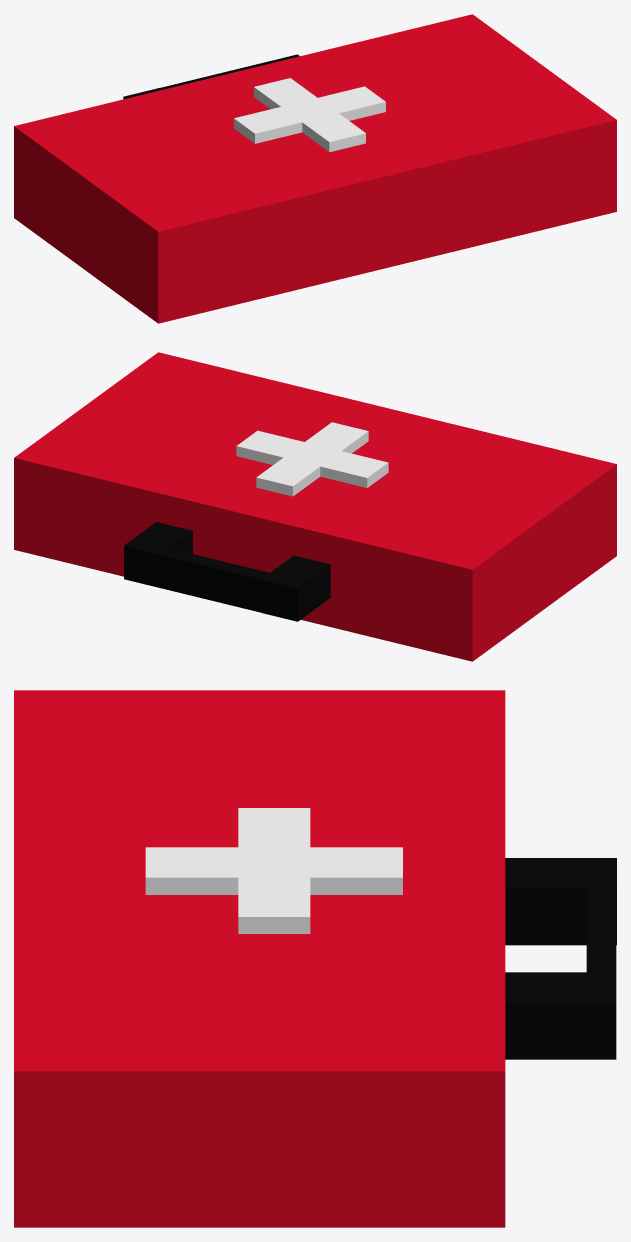
The model's file is Medkit.fbx.
3 views of the same model, one above another, from view 1: azimuth 30°, elevation 25°; view 2: azimuth 150°, elevation 25°; view 3: azimuth 270°, elevation 25° (orthographic). The views are drawn at different scales.
Visible parts, largest first — view 1: Cube, Cube.006, Cube.004, Cube.002; view 2: Cube, Cube.002, Cube.006, Cube.003, Cube.004, Cube.001; view 3: Cube, Cube.004, Cube.001, Cube.003, Cube.006, Cube.002.
Part boxes in pixels (x1,y1,x2,y2): Cube: [14, 14, 616, 323]; Cube.006: [234, 86, 385, 143]; Cube.004: [254, 78, 365, 152]; Cube.002: [132, 54, 299, 96]; Cube: [14, 352, 616, 661]; Cube.002: [124, 539, 304, 612]; Cube.006: [236, 430, 388, 487]; Cube.003: [261, 555, 330, 621]; Cube.004: [256, 422, 368, 496]; Cube.001: [131, 522, 192, 553]; Cube: [14, 690, 505, 1227]; Cube.004: [145, 847, 402, 894]; Cube.001: [505, 972, 615, 1059]; Cube.003: [505, 858, 616, 945]; Cube.006: [238, 808, 310, 933]; Cube.002: [586, 858, 616, 1059].
Bounding box in the file's own units: 200 × 42.53 × 134.
